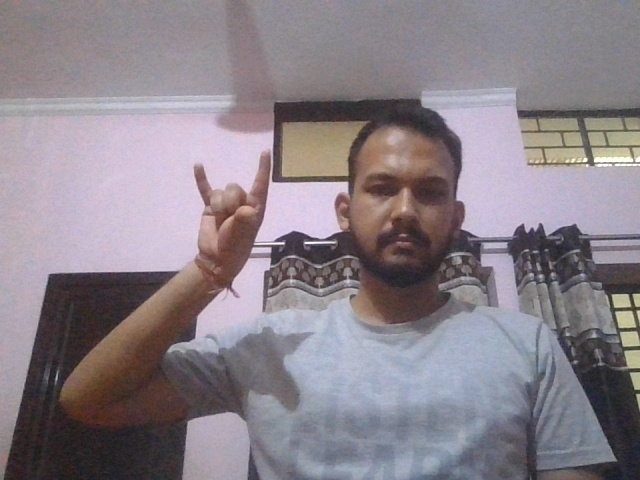iloveyou: (189, 149, 281, 280)
